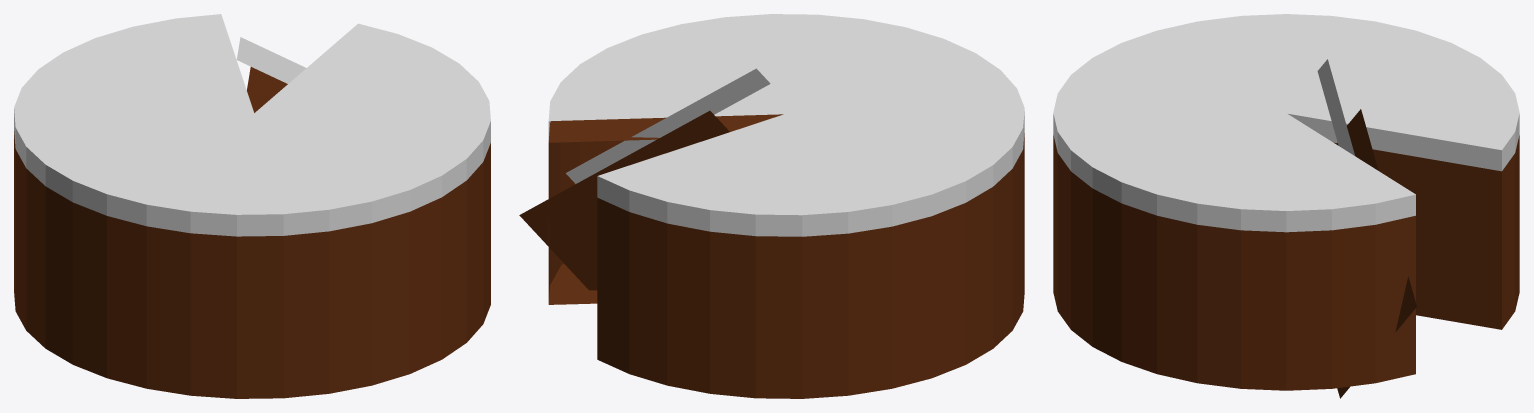
File: Cake.fbx
3 renders of one model, left to right at view 1: azimuth 30°, elevation 25°; view 2: azimuth 150°, elevation 25°; view 3: azimuth 270°, elevation 25°, orthographic. The views are drawn at different scales.
Parts seen in each view (by area): view 1: Icing, Cake, Plane.002, Plane; view 2: Cake, Icing, Plane, Plane.002; view 3: Icing, Cake, Plane.001, Plane.003, Plane, Plane.002.
Boxes of the visible parts, x1,y1,x2,y2 form: Icing: (14, 14, 490, 236); Cake: (14, 131, 490, 398); Plane.002: (236, 37, 306, 83); Plane: (247, 67, 287, 112); Cake: (548, 114, 1024, 398); Icing: (548, 14, 1024, 236); Plane: (519, 110, 729, 290); Plane.002: (566, 68, 770, 183); Icing: (1053, 14, 1519, 232); Cake: (1053, 135, 1519, 390); Plane.001: (1334, 143, 1501, 329); Plane.003: (1288, 114, 1501, 171); Plane: (1337, 109, 1416, 398); Plane.002: (1317, 59, 1354, 155).
Bounding box in the file's own units: 400 × 266 × 400.
